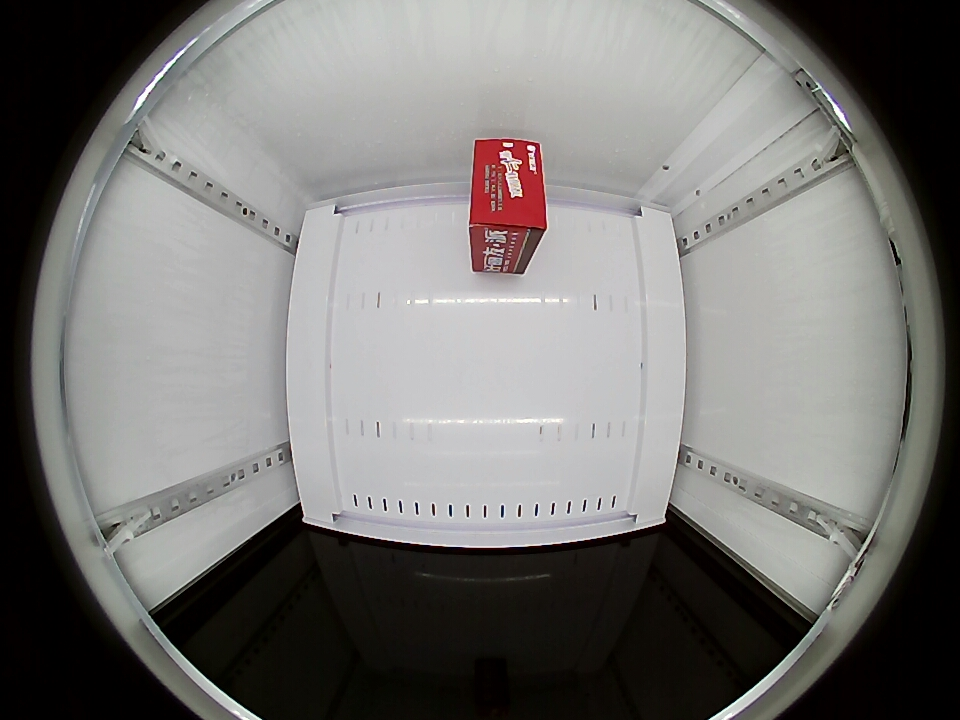haoliyou: (469, 137, 547, 261)
